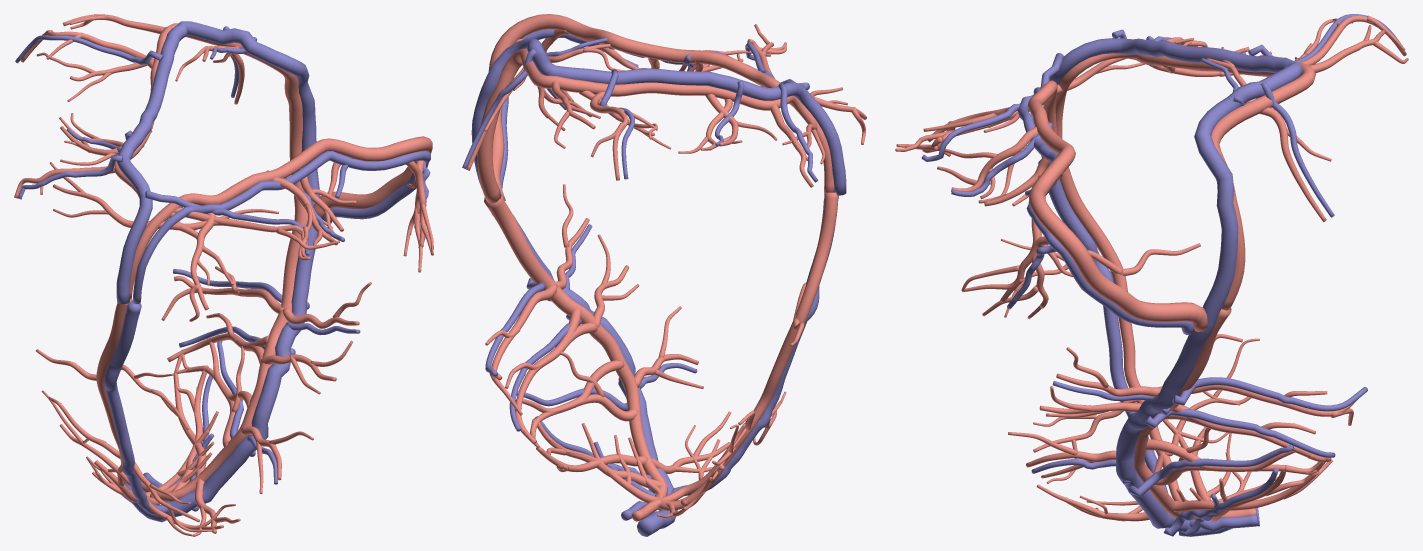
The model's file is vessels_47.glb.
3 renders of one model, left to right at view 1: azimuth 30°, elevation 25°; view 2: azimuth 150°, elevation 25°; view 3: azimuth 270°, elevation 25°, orthographic. The views are drawn at different scales.
Visible parts, largest first — view 1: Renderer Node; view 2: Renderer Node; view 3: Renderer Node.
Boxes of the visible parts, box(x1,y1,x2,y2) form: Renderer Node: box(14, 14, 433, 536); Renderer Node: box(462, 14, 866, 536); Renderer Node: box(895, 14, 1408, 536).
Size of the model in its own units: 95.54 by 114 by 104.
